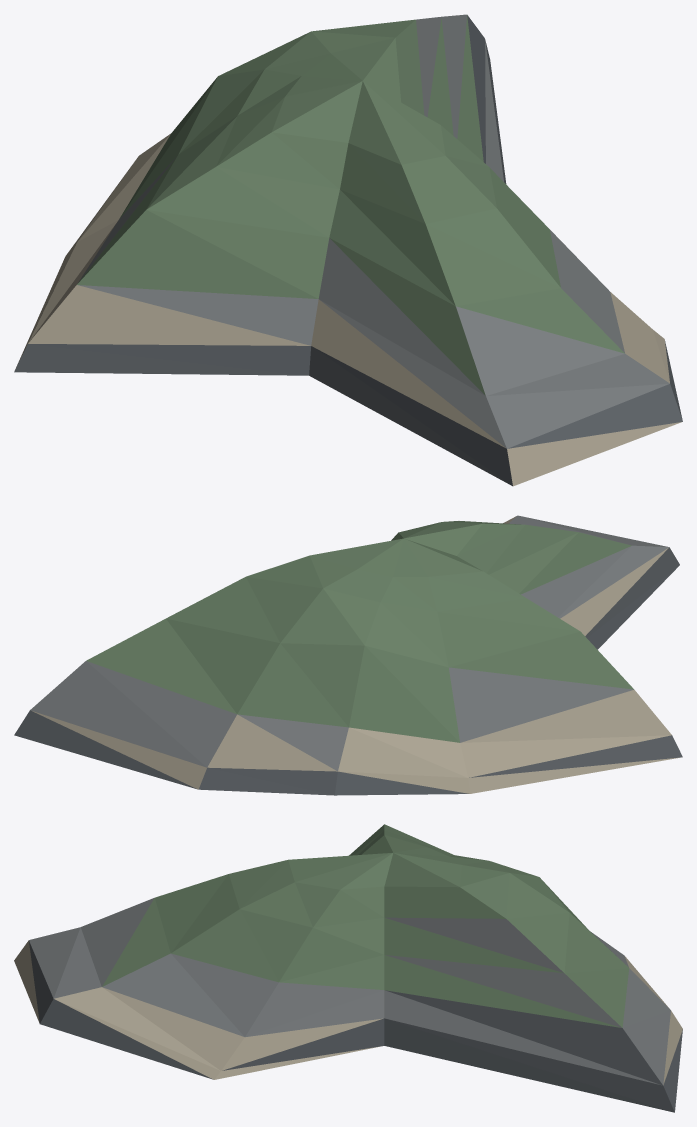
File: cedar_march_lod1.glb
3 renders of one model, top to bottom at view 1: azimuth 30°, elevation 25°; view 2: azimuth 150°, elevation 25°; view 3: azimuth 270°, elevation 25°, orthographic. The views are drawn at different scales.
Size of the model in its own units: 2.07 by 0.6351 by 2.4.
